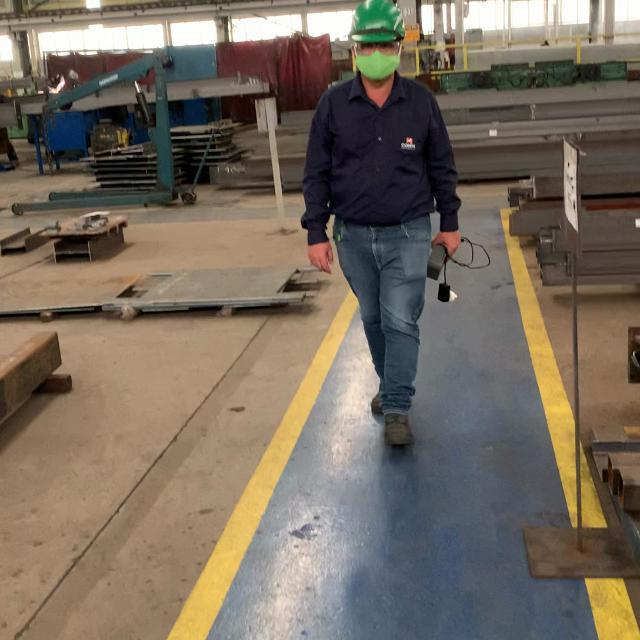eye-glass: (353, 42, 402, 56)
helmet: (352, 2, 406, 44)
mask: (351, 51, 399, 76)
person: (299, 1, 467, 449)
safety-shoe: (386, 411, 417, 448), (370, 394, 384, 411)
